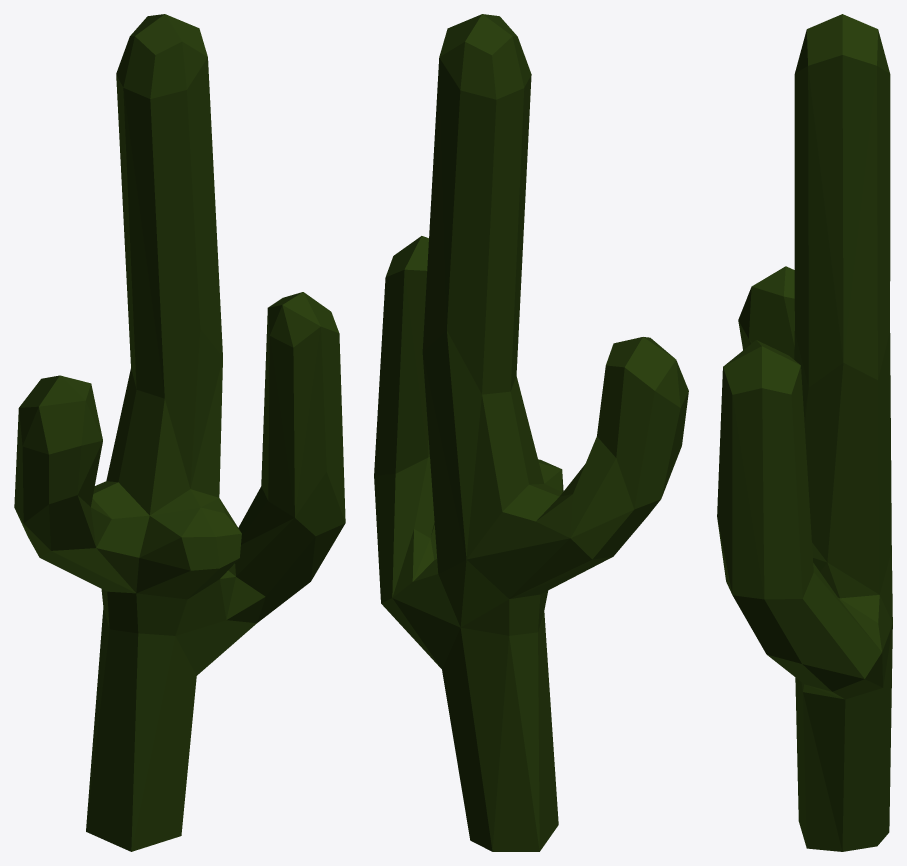
The model's file is kak1.obj.
The picture shows the model from 3 angles, left to right: view 1: azimuth 30°, elevation 25°; view 2: azimuth 150°, elevation 25°; view 3: azimuth 270°, elevation 25°; orthographic projection. The views are drawn at different scales.
Visible parts, largest first — view 1: Cube_Cube.002; view 2: Cube_Cube.002; view 3: Cube_Cube.002.
Part boxes in pixels (x1,y1,x2,y2): Cube_Cube.002: [14, 14, 345, 851]; Cube_Cube.002: [374, 14, 688, 851]; Cube_Cube.002: [717, 14, 892, 851].
Size of the model in its own units: 2.04 by 5.15 by 0.9836.
